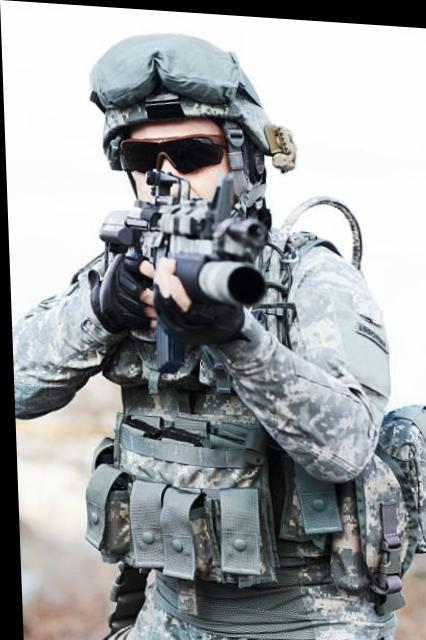other: (34, 45, 404, 640)
